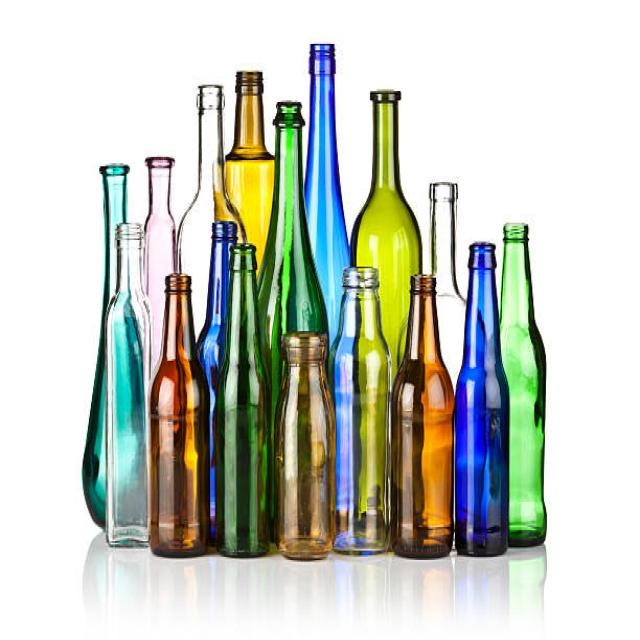glass: (88, 41, 561, 571)
